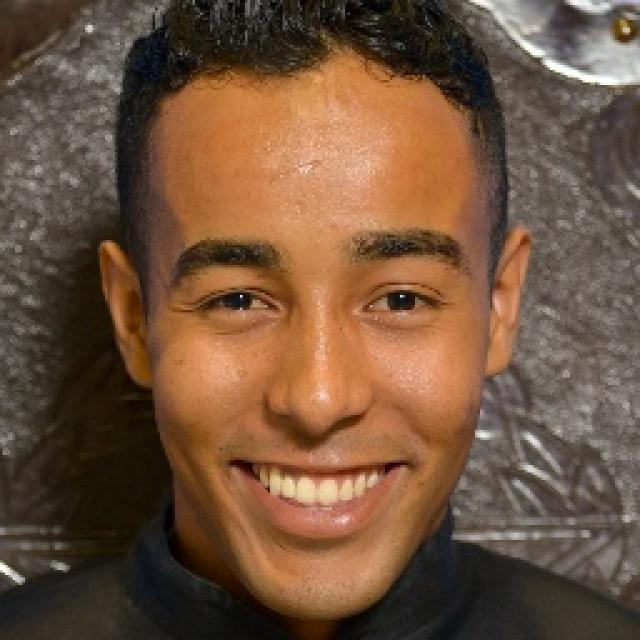earlobe: (98, 240, 155, 392), (482, 224, 532, 380)
